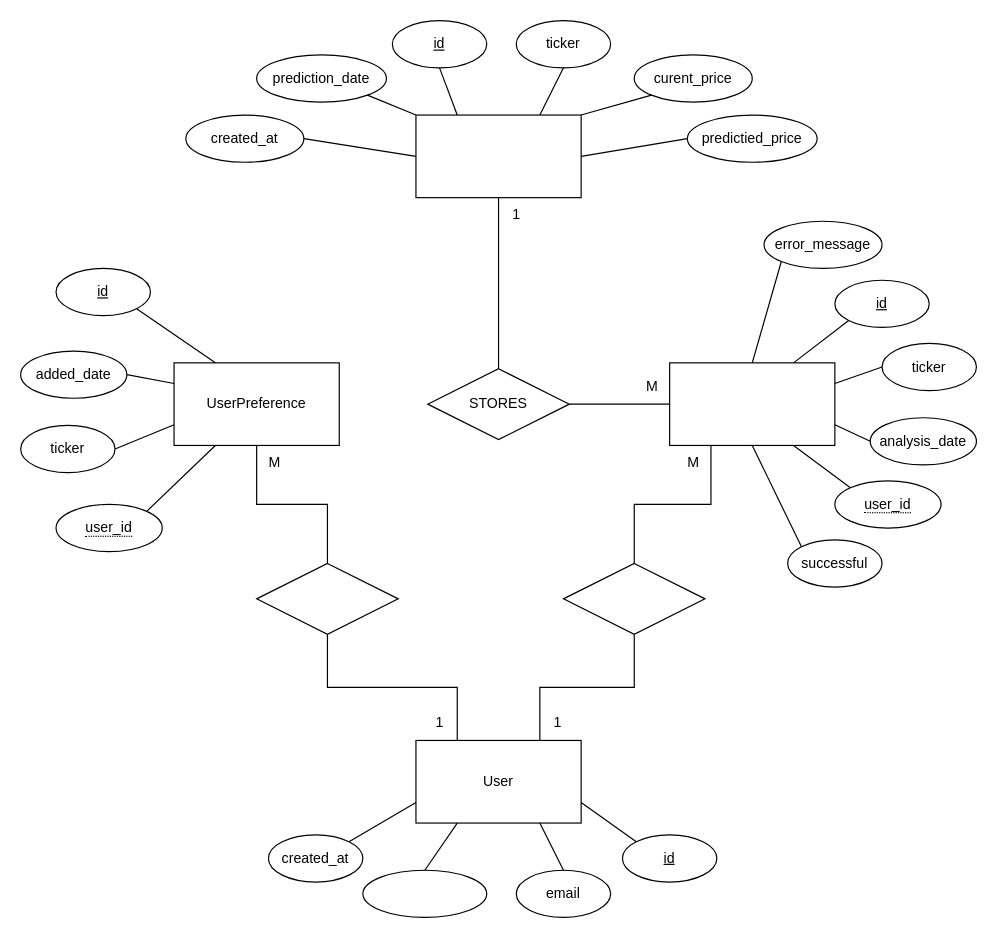
This 997x938 diagram has some shape labels left out. The box of each missing label's shape, as (x1, y1, x2, y2) in pixels:
AnalysisHistory: (668, 362, 835, 445)
ANALYZES: (562, 562, 705, 634)
MAKES: (255, 562, 398, 634)
password_hash: (362, 869, 487, 917)
StockPrediction: (415, 114, 581, 198)
